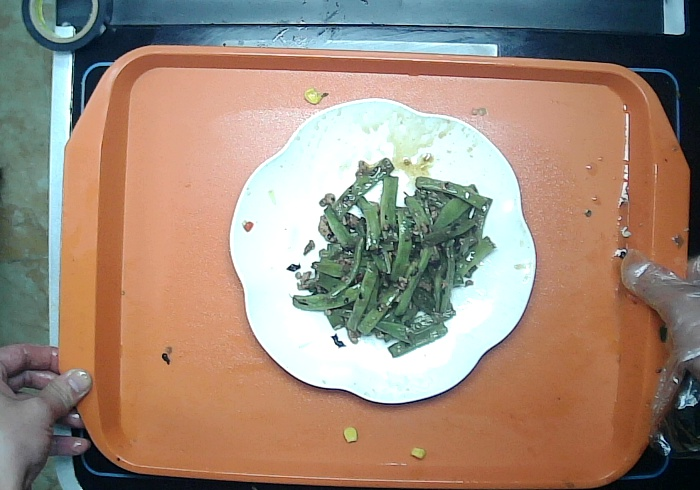HZYJPL-Bai_Se_Hua_Duo_Wan: (221, 93, 540, 405)
